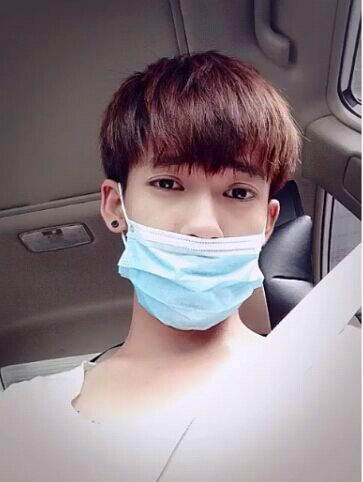face_mask: (122, 106, 267, 333)
